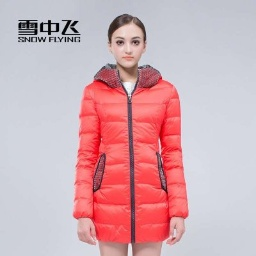face: (107, 13, 151, 76)
